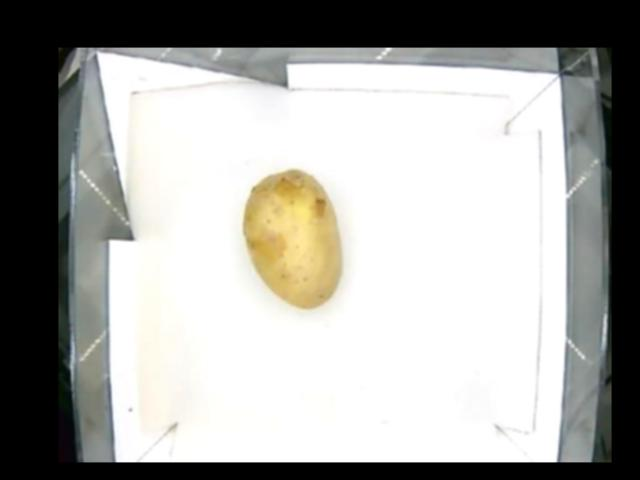Potato: (242, 169, 340, 311)
